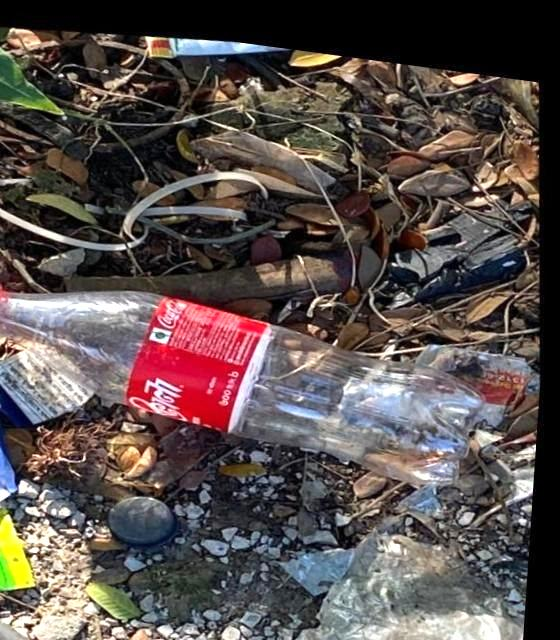bottle: (0, 241, 494, 501)
